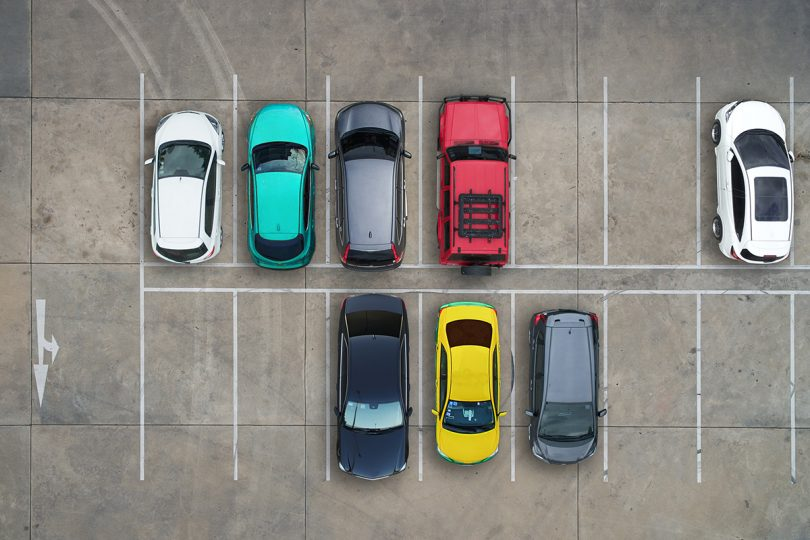Car: (432, 95, 516, 277), (703, 96, 793, 263), (332, 292, 411, 482), (332, 96, 412, 271), (149, 107, 227, 267), (528, 304, 603, 469), (430, 300, 502, 468), (247, 100, 316, 271)
LaneMark: (138, 284, 810, 296), (25, 297, 61, 408), (137, 288, 149, 482), (788, 293, 798, 484), (416, 291, 425, 487), (324, 292, 333, 482), (232, 73, 240, 266), (602, 293, 610, 483), (232, 288, 239, 485), (324, 74, 331, 269), (696, 290, 703, 484), (522, 263, 700, 270), (510, 290, 516, 483), (418, 75, 424, 267), (603, 76, 609, 267), (140, 71, 145, 289), (511, 74, 516, 269), (699, 75, 703, 268)
